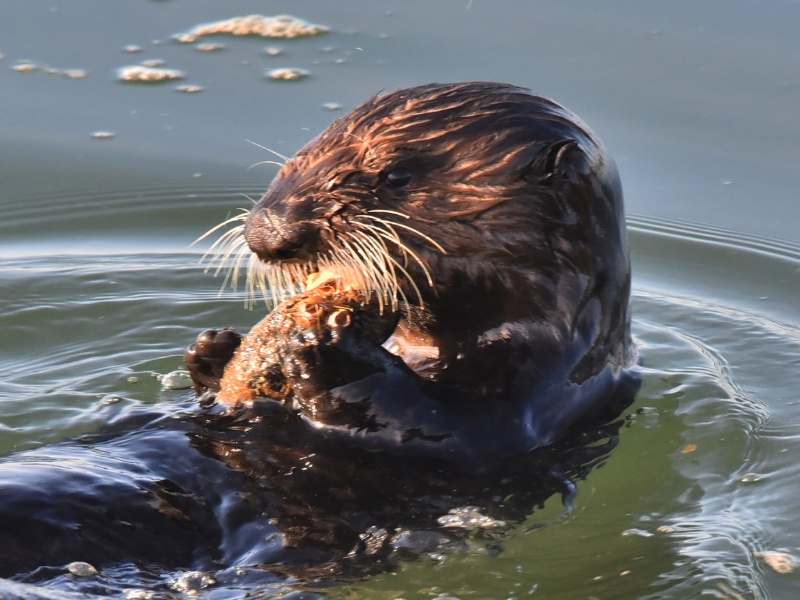minkish: (1, 77, 634, 595)
